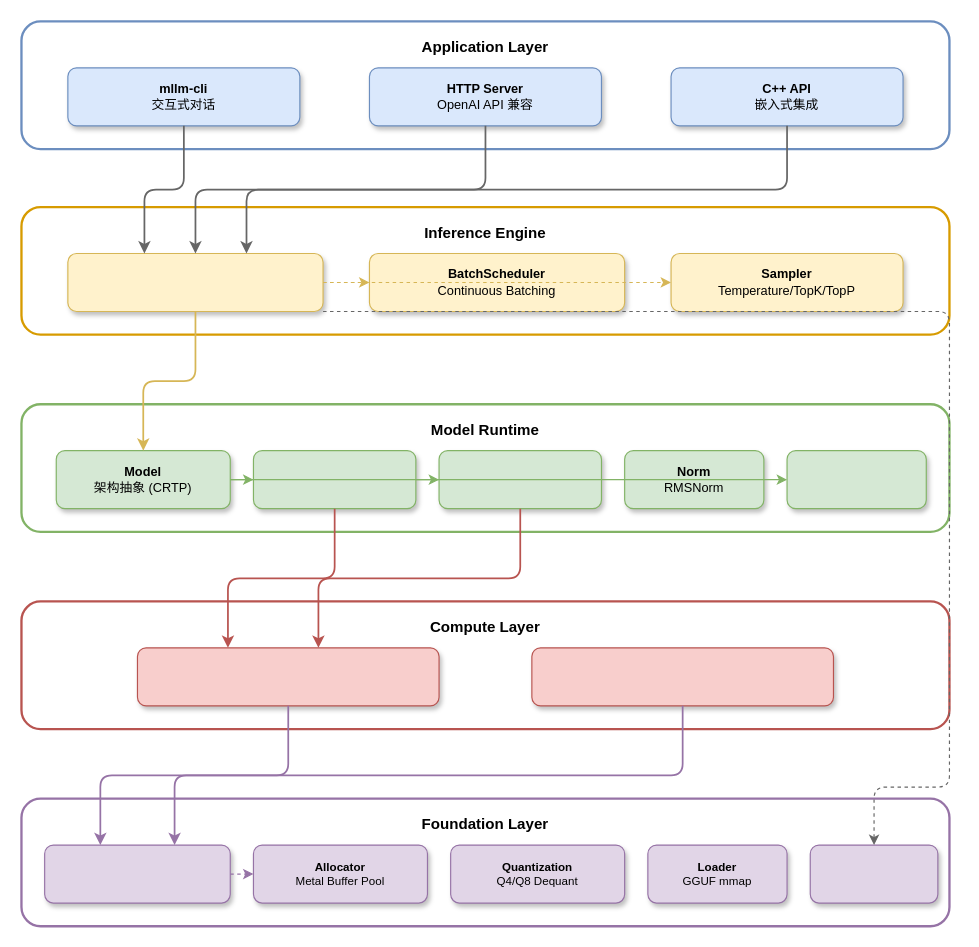
This 979x947 diagram has some shape labels left out. The shapes that lost their labels are listed below. From the top down, each one's centre as x and y in pixels, then its label:
At (196,284): "Engine 推理编排 · 协程调度".
At (335,481): "Attention GQA / MQA".
At (520,481): "FFN SwiGLU / MoE".
At (857,481): "KV Cache Paged / Ring".
At (289,678): "Metal Backend GPU Kernels".
At (683,678): "Accelerate Backend CPU / AMX / NEON".
At (138,875): "Tensor 非拥有型视图 · 零拷贝".
At (874,875): "Tokenizer BPE / SPM".
